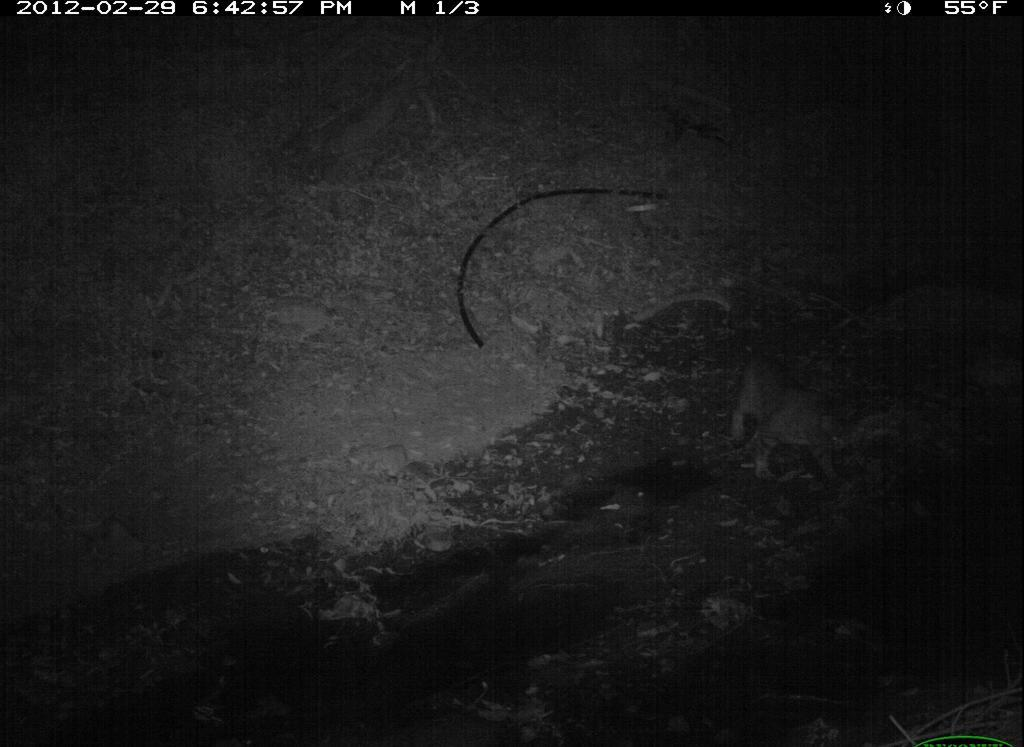cat: (705, 331, 871, 492)
